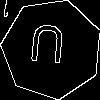U: (26, 24, 67, 73)
